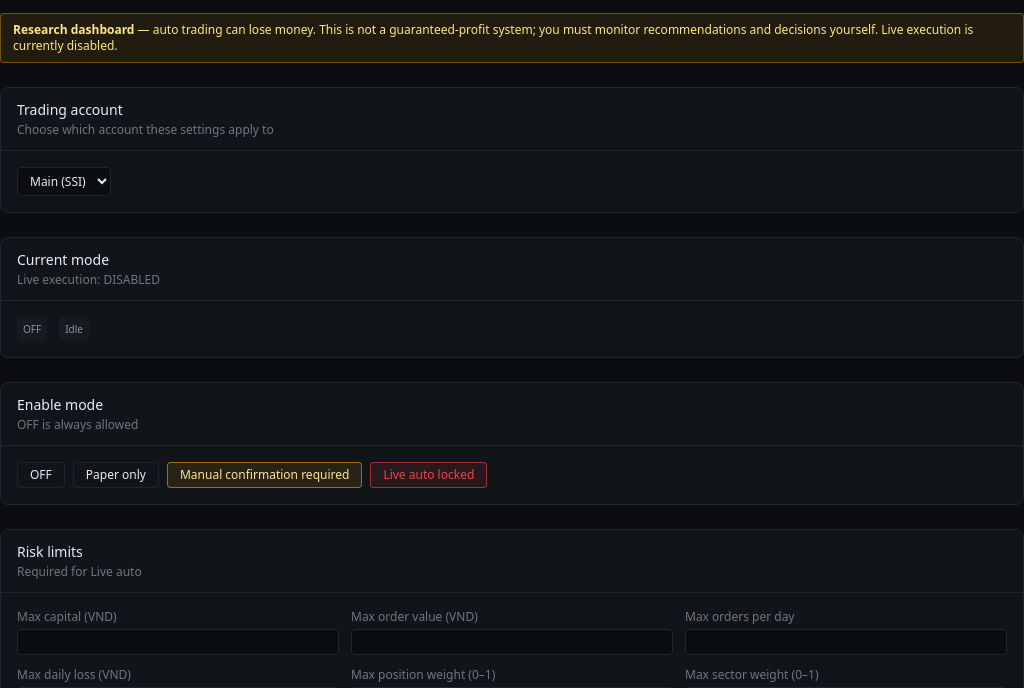
Test: AutoTradePage › renders the emergency stop button only when mode is not OFF
# Enable paper → button appears.
Click the button with test id "btn-paper" at (116, 475), box [73, 462, 159, 488]
(page scrolled)
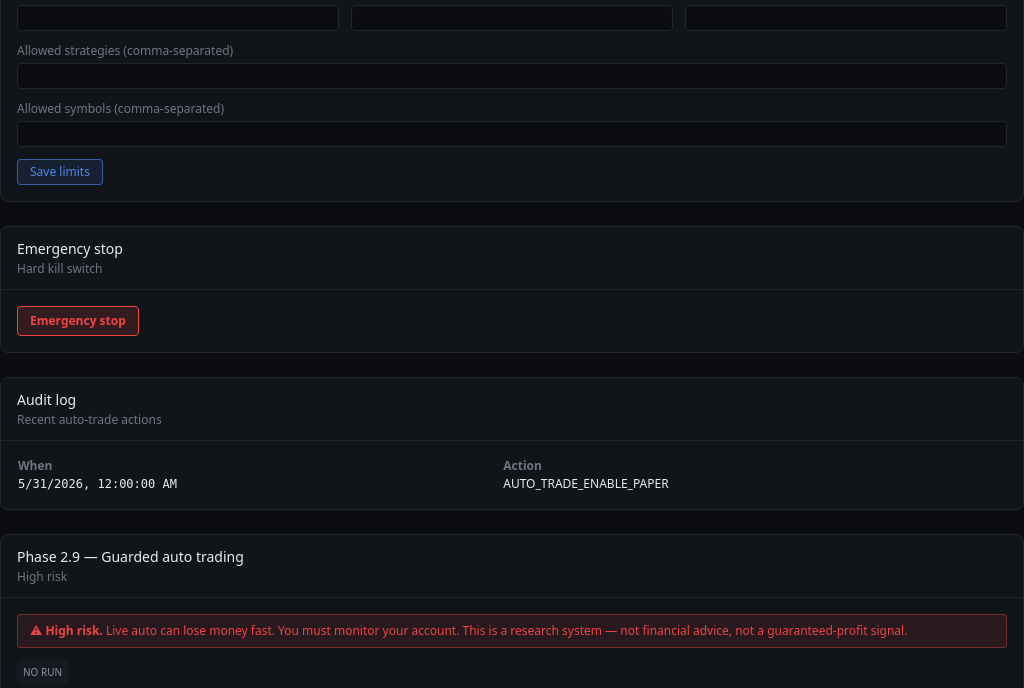
Now the button with test id "btn-emergency-stop" is shown, box [17, 306, 139, 336]
